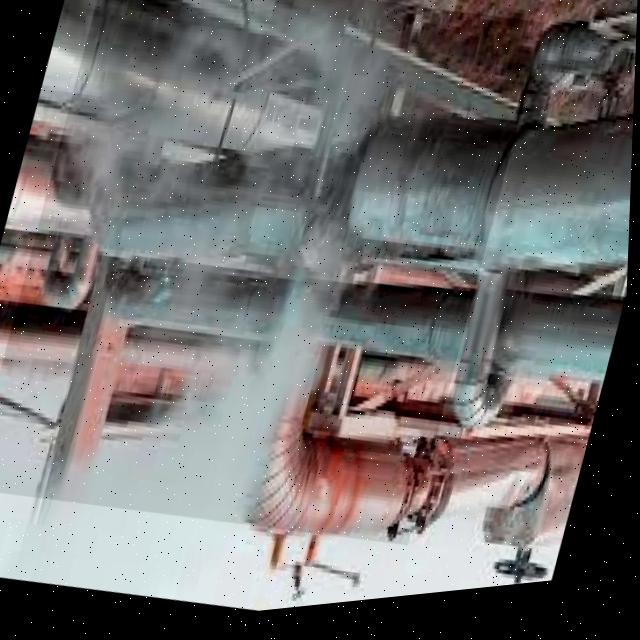corrosion: (179, 52, 489, 432)
